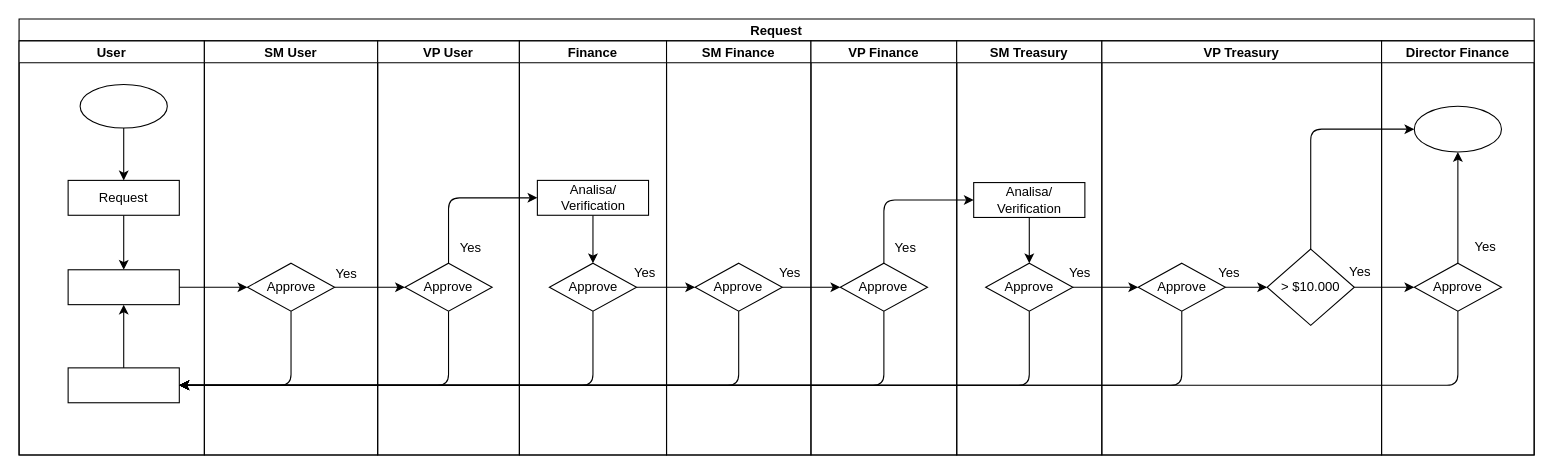
Some shapes in this 1553 by 474 pixel diagram are drawn without their labels. Here are the shapes that lost their labels. From the top down, the centre of each, then its label:
the point at 123,105: Start
the point at 1457,128: End
the point at 123,287: Submit
the point at 123,385: Edit
